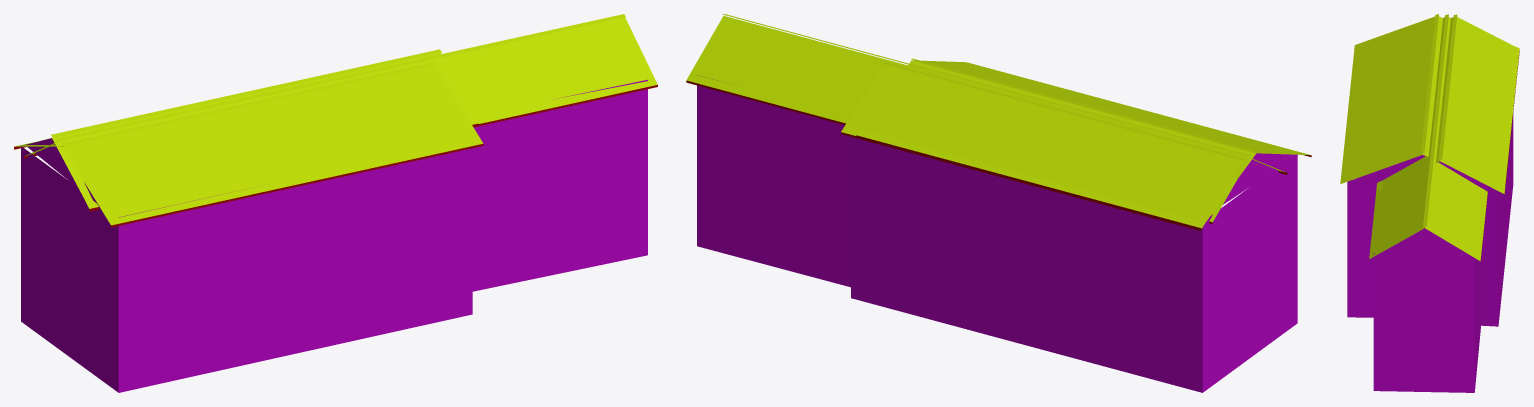
Rendered from rmc_181.glb.
3 views of the same model, side by side, from view 1: azimuth 30°, elevation 25°; view 2: azimuth 150°, elevation 25°; view 3: azimuth 270°, elevation 25° (orthographic). The views are drawn at different scales.
Visible parts, largest first — view 1: rmc_181; view 2: rmc_181; view 3: rmc_181.
Part boxes in pixels (bbox=[...]): rmc_181: bbox=[14, 14, 657, 392]; rmc_181: bbox=[686, 14, 1311, 392]; rmc_181: bbox=[1340, 14, 1519, 392].
Size of the model in its own units: 32.25 by 11.76 by 11.37.
